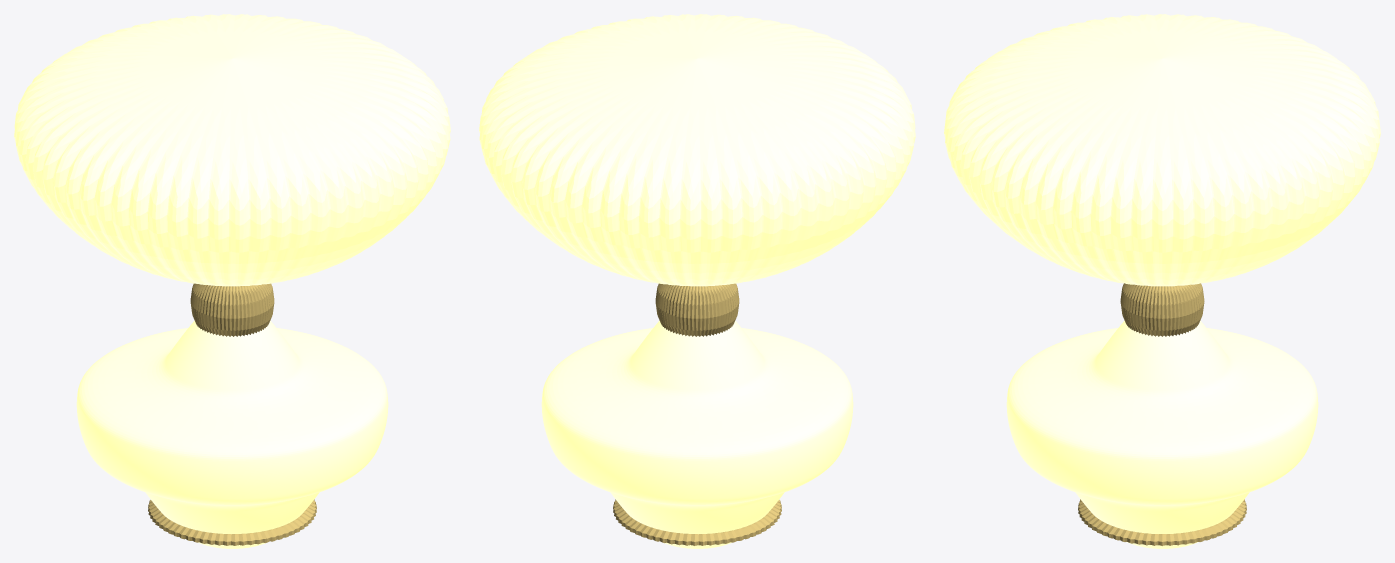
3 views of the same model, side by side, from view 1: azimuth 30°, elevation 25°; view 2: azimuth 150°, elevation 25°; view 3: azimuth 270°, elevation 25° (orthographic).
Parts seen in each view (by area): view 1: Amber_Shade, Amber_Bulb, Brass_Neck, Brass_Base; view 2: Amber_Shade, Amber_Bulb, Brass_Neck, Brass_Base; view 3: Amber_Shade, Amber_Bulb, Brass_Neck, Brass_Base.
Part boxes in pixels (bbox=[...]): Amber_Shade: bbox=[14, 14, 450, 286]; Amber_Bulb: bbox=[76, 321, 388, 548]; Brass_Neck: bbox=[190, 283, 274, 336]; Brass_Base: bbox=[148, 499, 316, 545]; Amber_Shade: bbox=[479, 14, 915, 286]; Amber_Bulb: bbox=[541, 321, 853, 548]; Brass_Neck: bbox=[655, 283, 739, 336]; Brass_Base: bbox=[613, 499, 781, 545]; Amber_Shade: bbox=[944, 14, 1380, 286]; Amber_Bulb: bbox=[1006, 321, 1318, 548]; Brass_Neck: bbox=[1120, 283, 1204, 336]; Brass_Base: bbox=[1078, 499, 1246, 545].
Bounding box in the file's own units: 2.46 × 2.94 × 2.46.
